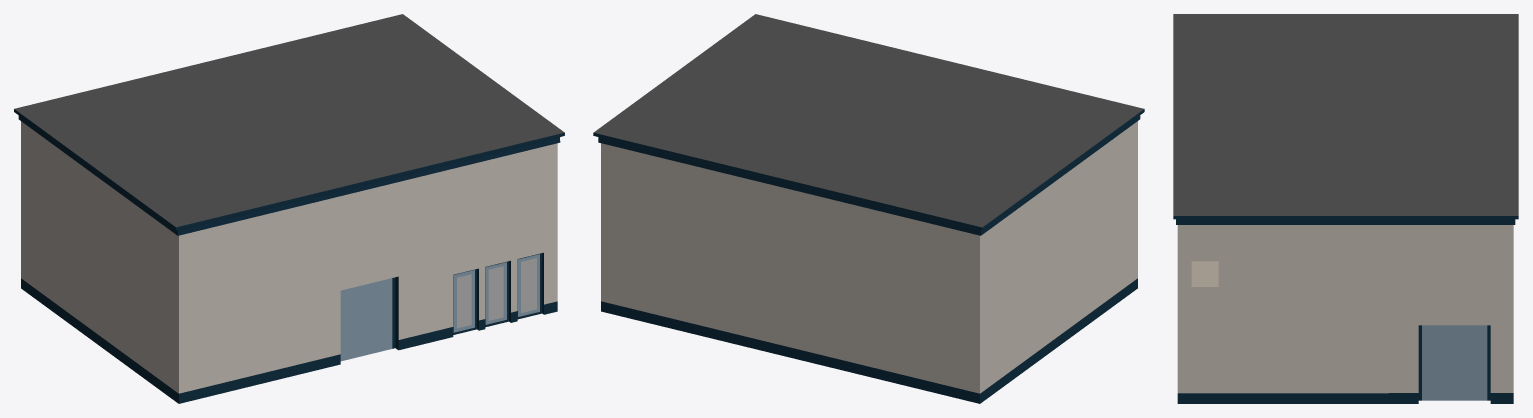
File: edap-service-building_LOD02.gltf
3 renders of one model, left to right at view 1: azimuth 30°, elevation 25°; view 2: azimuth 150°, elevation 25°; view 3: azimuth 270°, elevation 25°, orthographic. The views are drawn at different scales.
Visible parts, largest first — view 1: body.002, roof.002; view 2: body.002, roof.002; view 3: roof.002, body.002, vent.002.
Part boxes in pixels (x1,y1,x2,y2): body.002: [21, 121, 557, 403]; roof.002: [14, 14, 564, 235]; body.002: [601, 121, 1137, 403]; roof.002: [593, 14, 1144, 235]; roof.002: [1173, 14, 1518, 224]; body.002: [1177, 225, 1513, 403]; vent.002: [1191, 261, 1218, 286].
Bounding box in the file's own units: 12.1 × 5.33 × 8.74.
